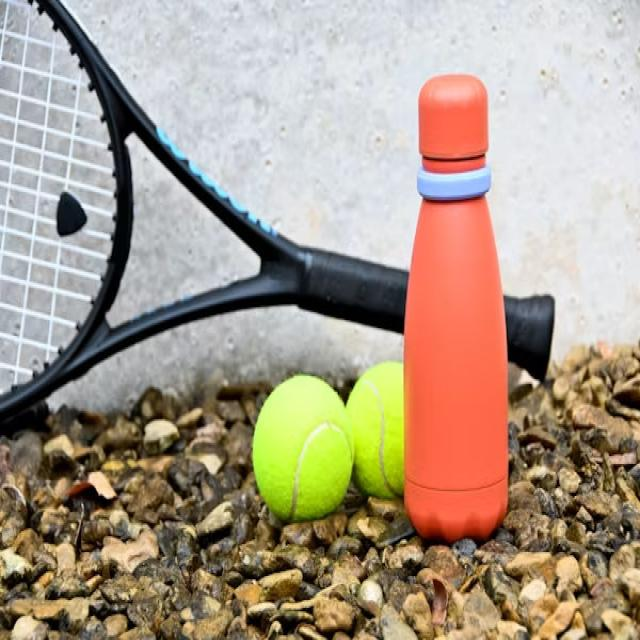Bottle: (405, 76, 507, 540)
